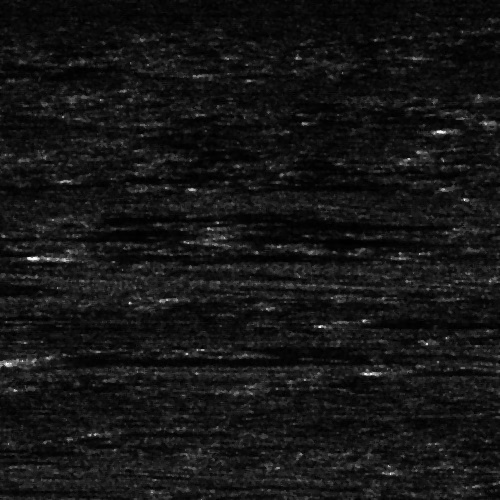object: (0, 351, 84, 370), (175, 235, 258, 246), (12, 250, 105, 259), (408, 124, 500, 133), (196, 218, 279, 227), (348, 366, 421, 375), (326, 319, 399, 324), (80, 210, 91, 219), (487, 225, 500, 228)
shadow: (32, 351, 325, 370), (59, 250, 352, 259), (216, 235, 401, 246), (238, 218, 421, 227), (86, 210, 261, 219), (385, 366, 500, 375), (0, 177, 53, 194), (0, 480, 67, 493), (363, 319, 500, 324), (0, 175, 101, 180), (454, 124, 500, 133)
